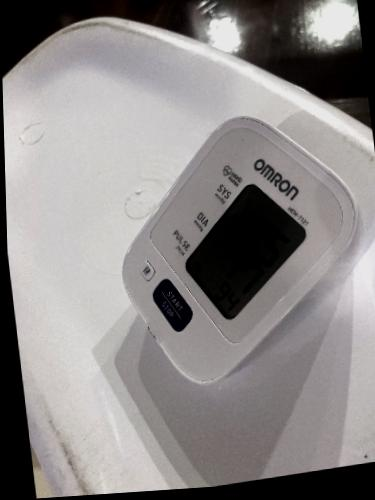bpm: (172, 181, 312, 328)
